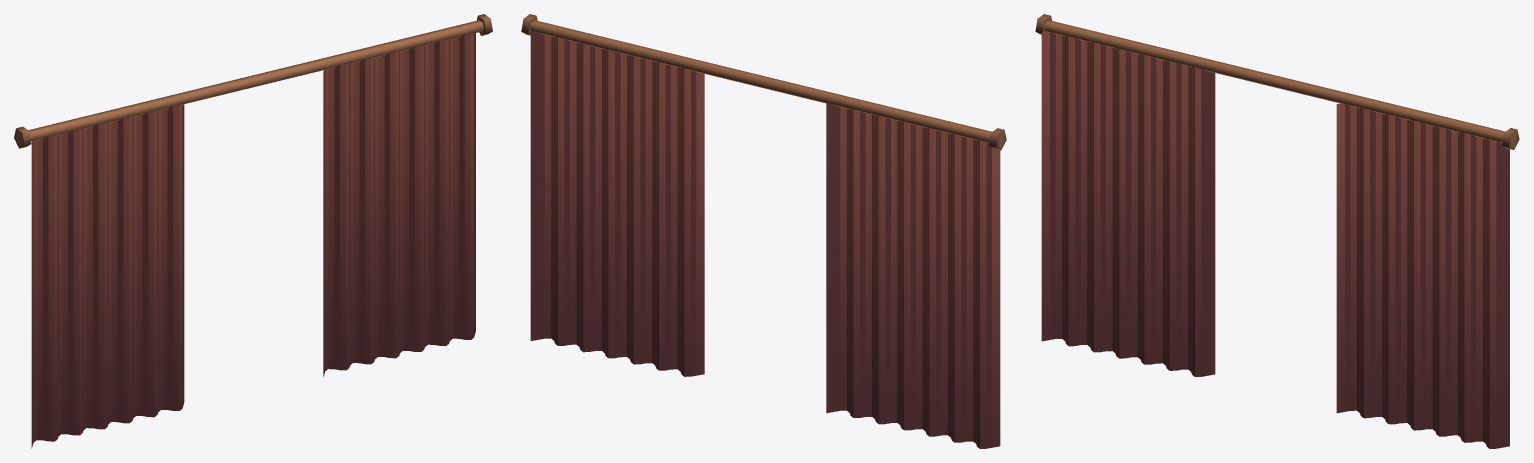
Rendered from M_doublecurtains.FBX.
The picture shows the model from 3 angles, left to right: view 1: azimuth 30°, elevation 25°; view 2: azimuth 150°, elevation 25°; view 3: azimuth 330°, elevation 25°; orthographic projection.
Visible parts, largest first — view 1: Cylinder016; view 2: Cylinder016; view 3: Cylinder016.
Part boxes in pixels (x1,y1,x2,y2): Cylinder016: (14,14,492,448); Cylinder016: (521,14,1006,448); Cylinder016: (1035,14,1519,448).
Bounding box in the file's own units: 6.21 × 4 × 0.2528.
